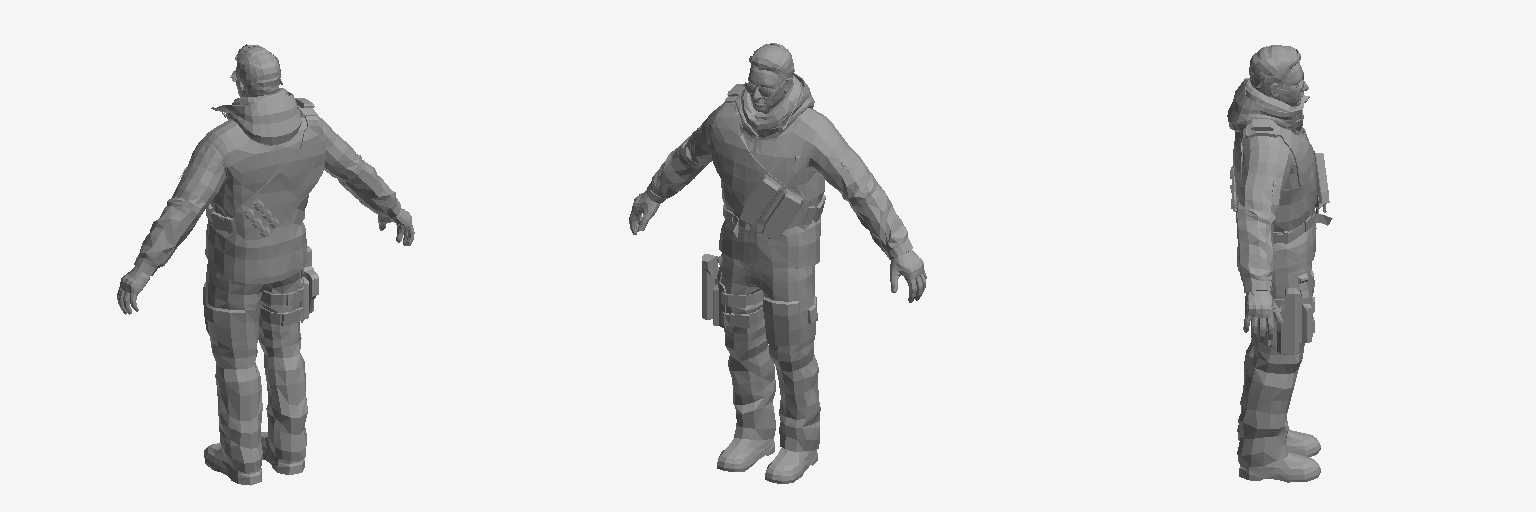
The model's file is leet.obj.
3 views of the same model, side by side, from view 1: azimuth 30°, elevation 25°; view 2: azimuth 150°, elevation 25°; view 3: azimuth 270°, elevation 25° (orthographic).
Parts seen in each view (by area): view 1: leet_bmp.001, leet_hair_bmp; view 2: leet_bmp.001, leet_hair_bmp; view 3: leet_bmp.001, leet_hair_bmp.
Boxes of the visible parts, x1=… form: leet_bmp.001: x1=117, y1=67, x2=414, y2=485; leet_hair_bmp: x1=235, y1=44, x2=282, y2=96; leet_bmp.001: x1=629, y1=65, x2=926, y2=483; leet_hair_bmp: x1=749, y1=43, x2=794, y2=83; leet_bmp.001: x1=1227, y1=62, x2=1332, y2=482; leet_hair_bmp: x1=1249, y1=45, x2=1300, y2=95.
Size of the model in its own units: 55.57 by 76.12 by 17.41.